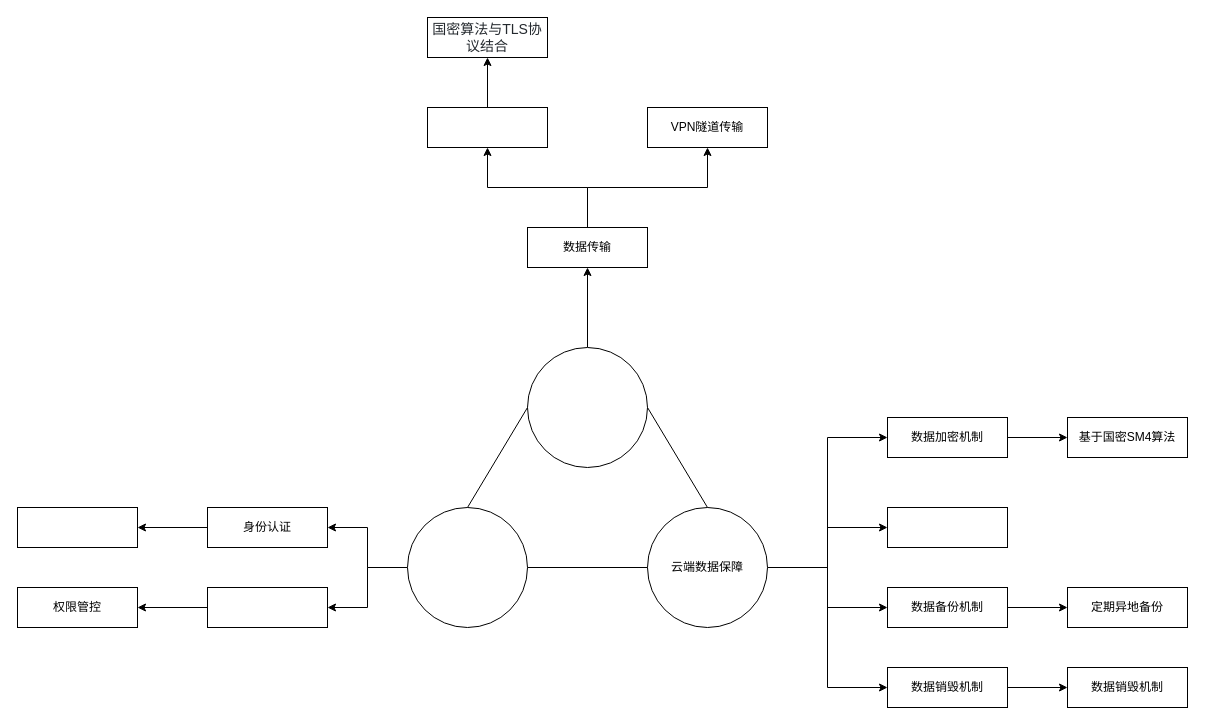
Some shapes in this 1205 by 725 pixel diagram are drawn without their labels. The shapes that lost their labels are listed below. From the top down, each one's centre as x and y in pixels, then its label:
the point at 487,127: HTTPS
the point at 587,407: 网络
the point at 77,527: 多因子认证
the point at 947,527: 数据隔离机制
the point at 467,567: 人员
the point at 267,607: 访问控制
